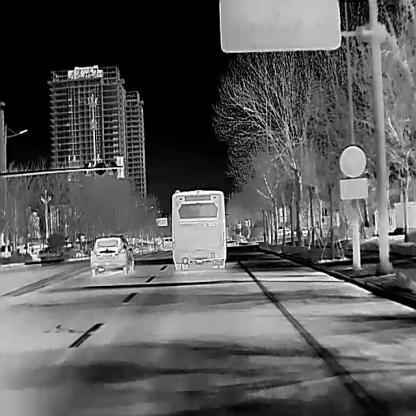bus: (171, 189, 225, 269)
car: (89, 235, 135, 274), (162, 236, 172, 250)
